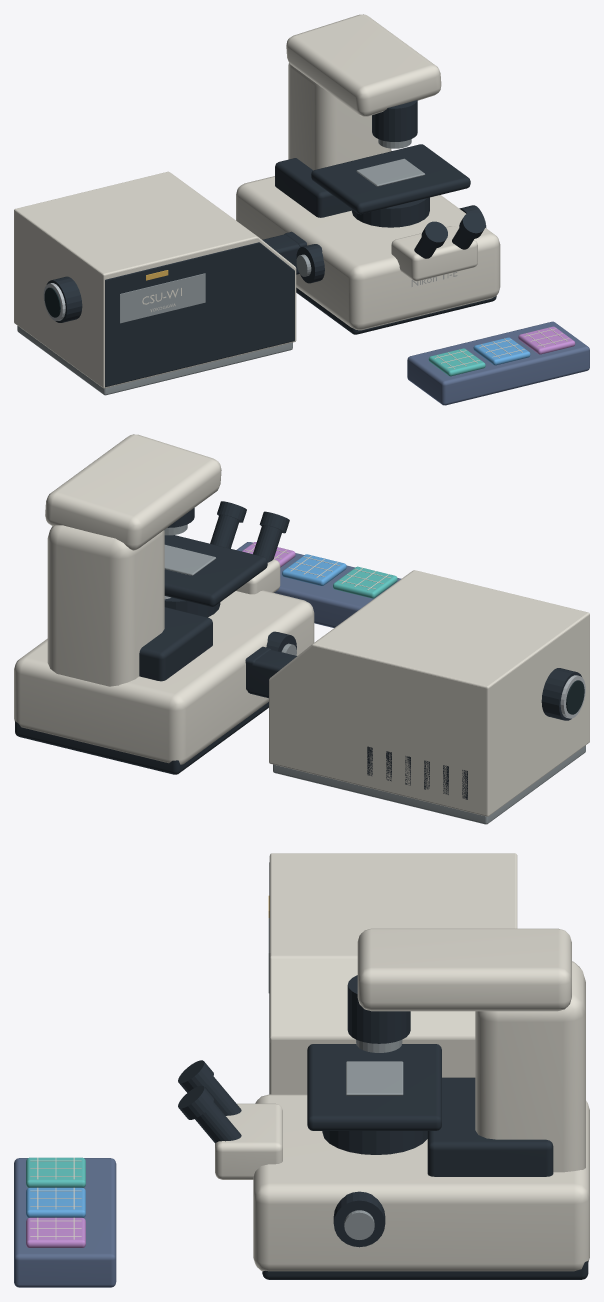
File: csu-w1-tie.glb
3 views of the same model, one above another, from view 1: azimuth 30°, elevation 25°; view 2: azimuth 150°, elevation 25°; view 3: azimuth 270°, elevation 25° (orthographic). The views are drawn at different scales.
Parts seen in each view (by area): view 1: T1_vintage_conformal_shell, TiE_lower_main_casting, T1_charcoal_front, TiE_upper_cantilever, Fictional_data_plane_pedestal, TiE_rear_column, TiE_tray_stage, TiE_binocular_collar, T1_unpowered_panel, TiE_throat_underside, T1_lower_plinth, TiE_passive_condenser_silhouette (+11 smaller); view 2: T1_vintage_conformal_shell, TiE_lower_main_casting, TiE_rear_column, TiE_upper_cantilever, TiE_tray_stage, TiE_throat_underside, Fictional_data_plane_pedestal, T1_lower_plinth, TiE_base_skirt, Synthetic_plane_card_1, Synthetic_plane_card_0, Nominal_passive_T1_to_TiE_transition (+6 smaller); view 3: TiE_lower_main_casting, T1_vintage_conformal_shell, TiE_upper_cantilever, TiE_rear_column, TiE_tray_stage, Fictional_data_plane_pedestal, TiE_throat_underside, TiE_binocular_collar, TiE_base_skirt, TiE_passive_condenser_silhouette, TiE_under_stage_turret, TiE_stage_inlay (+9 smaller).
Boxes of the visible parts, x1,y1,x2,y2 form: T1_vintage_conformal_shell: [14, 171, 296, 388]; TiE_lower_main_casting: [236, 176, 500, 330]; T1_charcoal_front: [105, 242, 294, 387]; TiE_upper_cantilever: [286, 14, 441, 116]; Fictional_data_plane_pedestal: [407, 321, 589, 405]; TiE_rear_column: [288, 63, 391, 170]; TiE_tray_stage: [311, 144, 470, 214]; TiE_binocular_collar: [391, 226, 477, 281]; T1_unpowered_panel: [120, 273, 205, 323]; TiE_throat_underside: [275, 151, 391, 217]; T1_lower_plinth: [17, 326, 292, 395]; TiE_passive_condenser_silhouette: [372, 100, 417, 141]; T1_vintage_conformal_shell: [269, 570, 589, 816]; TiE_lower_main_casting: [14, 590, 314, 764]; TiE_rear_column: [47, 525, 164, 686]; TiE_upper_cantilever: [45, 434, 221, 550]; TiE_tray_stage: [164, 535, 267, 606]; TiE_throat_underside: [139, 607, 212, 681]; Fictional_data_plane_pedestal: [236, 542, 401, 627]; T1_lower_plinth: [273, 745, 585, 824]; TiE_base_skirt: [15, 702, 268, 774]; Synthetic_plane_card_1: [282, 554, 346, 585]; Synthetic_plane_card_0: [333, 566, 397, 598]; Nominal_passive_T1_to_TiE_transition: [247, 649, 296, 698]; TiE_lower_main_casting: [253, 1094, 589, 1271]; T1_vintage_conformal_shell: [269, 853, 517, 1094]; TiE_upper_cantilever: [357, 928, 571, 1011]; TiE_rear_column: [475, 961, 585, 1172]; TiE_tray_stage: [307, 1044, 441, 1130]; Fictional_data_plane_pedestal: [14, 1158, 116, 1287]; TiE_throat_underside: [427, 1077, 553, 1176]; TiE_binocular_collar: [215, 1103, 282, 1179]; TiE_base_skirt: [262, 1261, 588, 1279]; TiE_passive_condenser_silhouette: [347, 975, 410, 1043]; TiE_under_stage_turret: [322, 1131, 427, 1154]; TiE_stage_inlay: [346, 1061, 403, 1095].
Size of the model in its own units: 0.9 by 0.4403 by 0.761.
